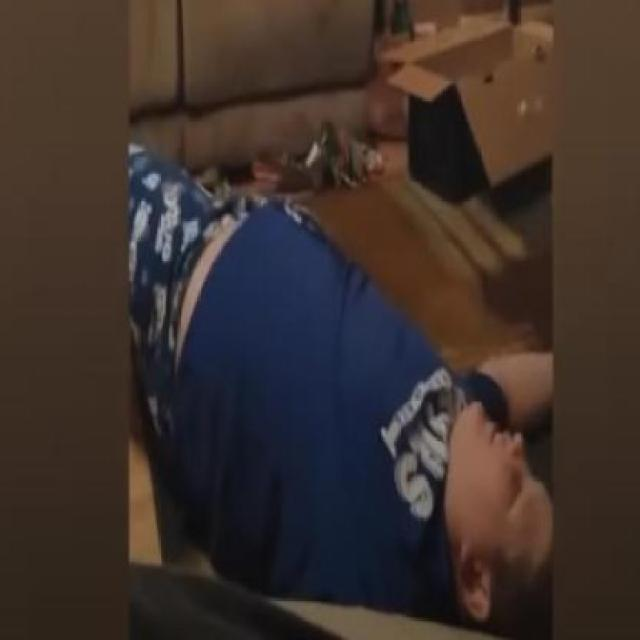fall: (129, 124, 556, 638)
